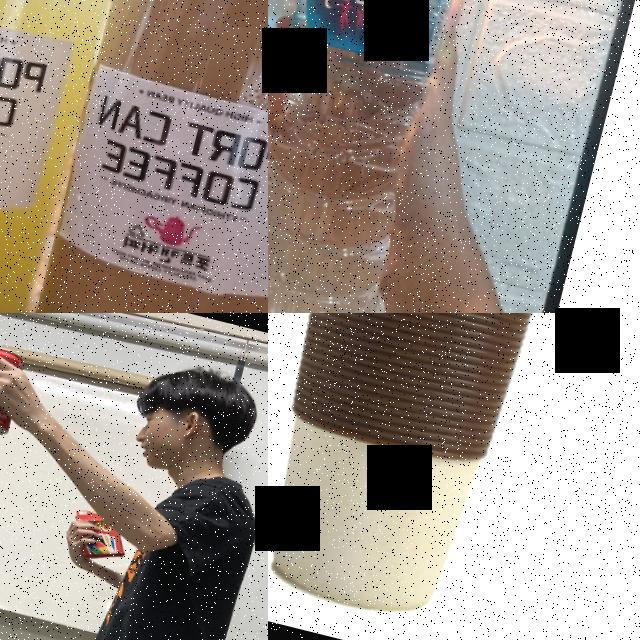bottle: (268, 0, 508, 313)
can: (16, 0, 268, 313), (0, 0, 143, 313), (0, 342, 28, 439)
cup: (268, 313, 603, 636)
